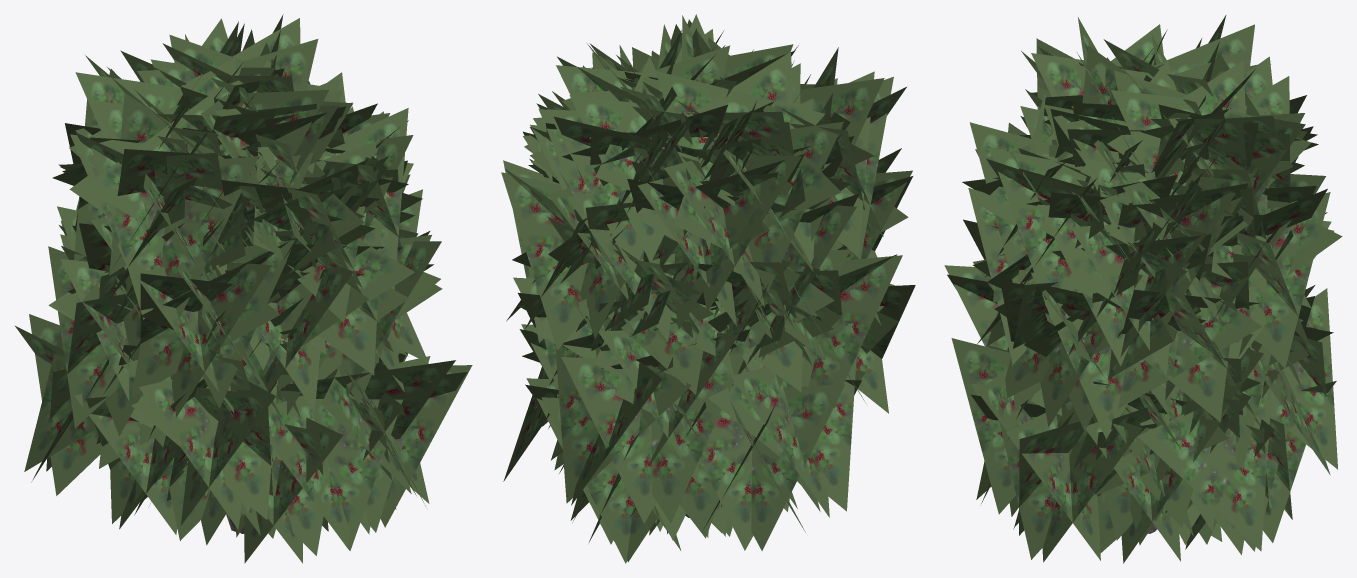
Rendered from Rhamnus_Alaternus_Autumn_Adult.glb.
The picture shows the model from 3 angles, left to right: view 1: azimuth 30°, elevation 25°; view 2: azimuth 150°, elevation 25°; view 3: azimuth 270°, elevation 25°; orthographic projection. The views are drawn at different scales.
Parts seen in each view (by area): view 1: Rhamnus_Alaternus_Autumn_Adult__LOD3; view 2: Rhamnus_Alaternus_Autumn_Adult__LOD3; view 3: Rhamnus_Alaternus_Autumn_Adult__LOD3.
Boxes of the visible parts, x1,y1,x2,y2 form: Rhamnus_Alaternus_Autumn_Adult__LOD3: [15, 14, 472, 563]; Rhamnus_Alaternus_Autumn_Adult__LOD3: [501, 14, 915, 563]; Rhamnus_Alaternus_Autumn_Adult__LOD3: [944, 15, 1342, 563].
Size of the model in its own units: 3.45 by 4.23 by 3.36.
Materials: 2 (2 with a texture image).
